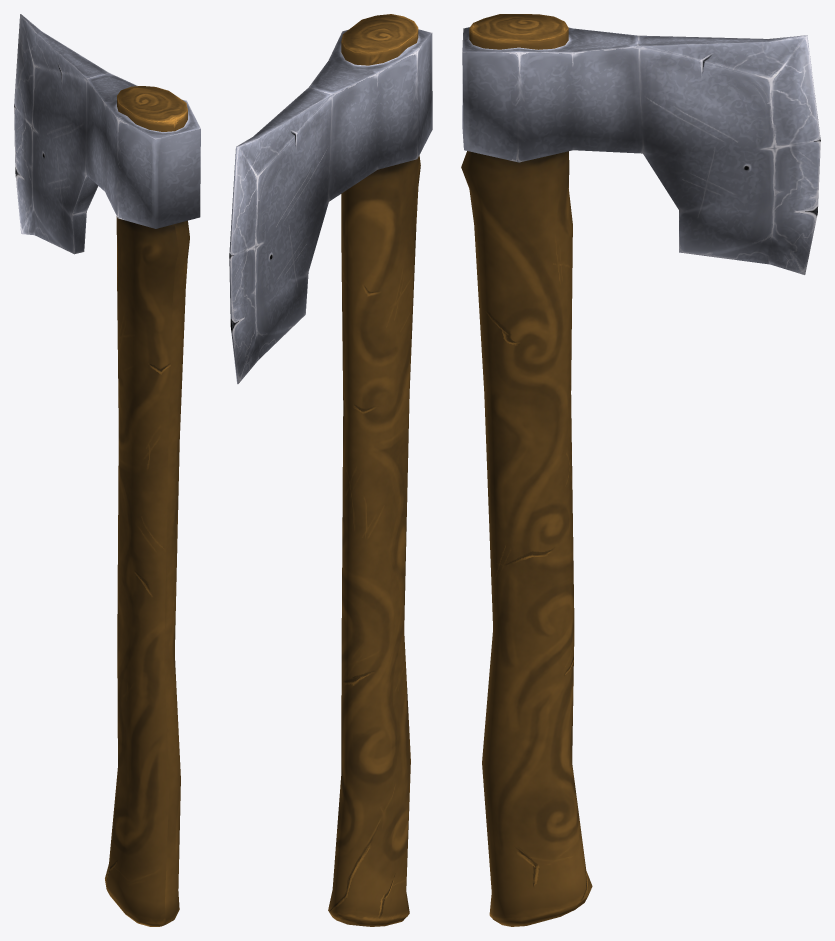
Rendered from axe_190409.obj.
3 views of the same model, side by side, from view 1: azimuth 30°, elevation 25°; view 2: azimuth 150°, elevation 25°; view 3: azimuth 270°, elevation 25° (orthographic). The views are drawn at different scales.
Visible parts, largest first — view 1: Cylinder_Cylinder.001; view 2: Cylinder_Cylinder.001; view 3: Cylinder_Cylinder.001.
Part boxes in pixels (left/top/right/bottom): Cylinder_Cylinder.001: left=14, top=14, right=200, bottom=926; Cylinder_Cylinder.001: left=229, top=14, right=432, bottom=926; Cylinder_Cylinder.001: left=461, top=14, right=820, bottom=926.
Bounding box in the file's own units: 0.097 × 1.1 × 0.4002.
